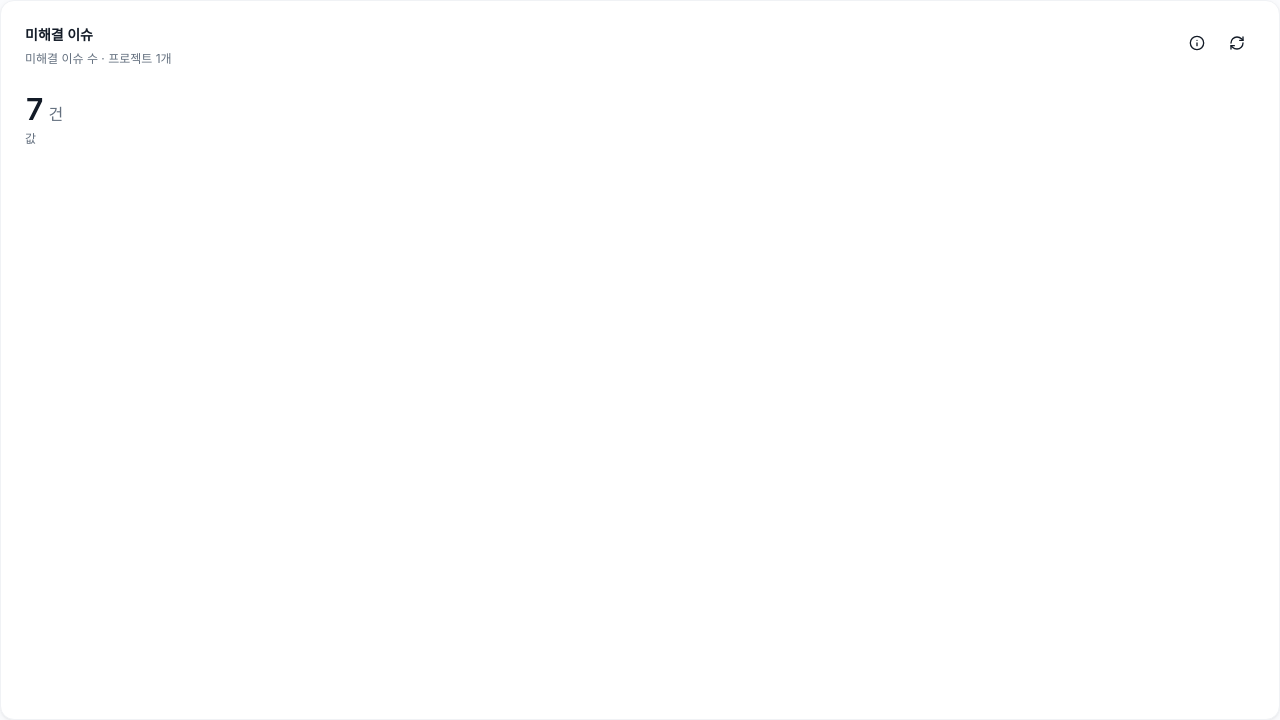
위젯 산출 근거 › 근거 버튼을 누르면 서버가 준 문장이 그대로 보인다
The image size is (1280, 720).
Click the button named "산출 근거" at point(1197, 43), box x1=1179 y1=25 x2=1215 y2=61
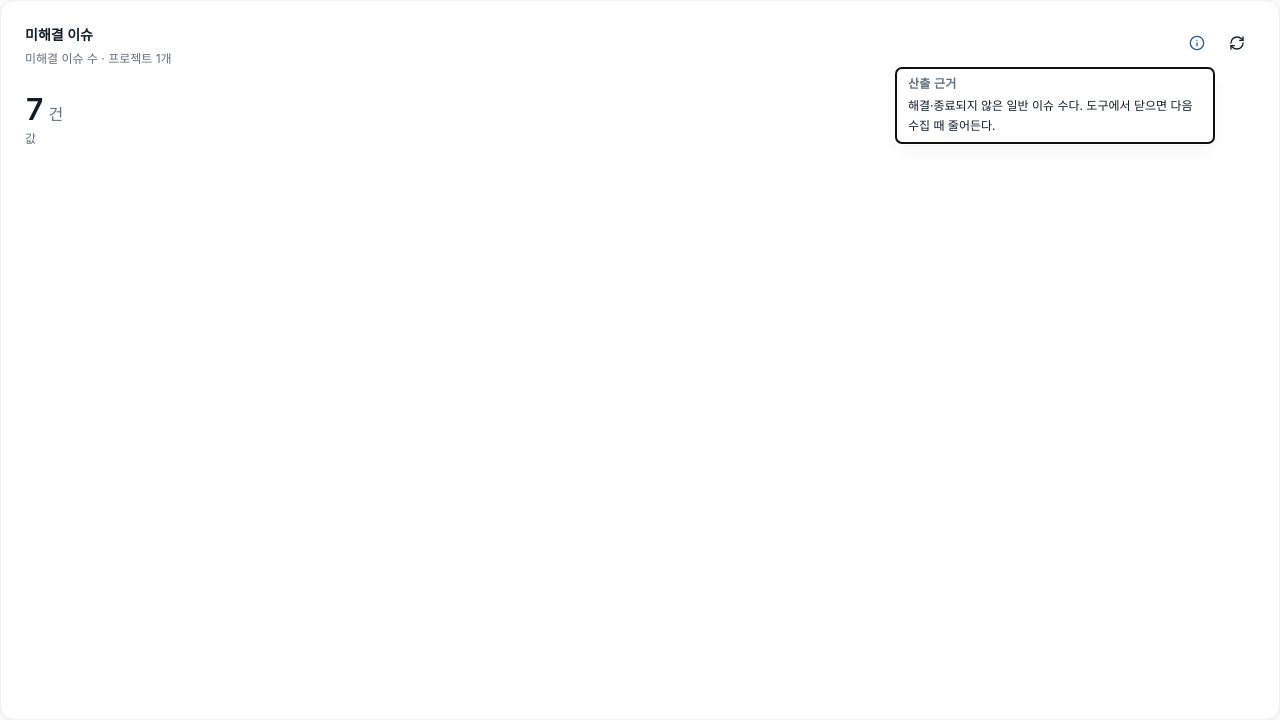
expect the text with test id "widget-basis" reads "해결·종료되지 않은 일반 이슈 수다. 도구에서 닫으면 다음 수집 때 줄어든다.": met, box x1=908 y1=98 x2=1192 y2=132
